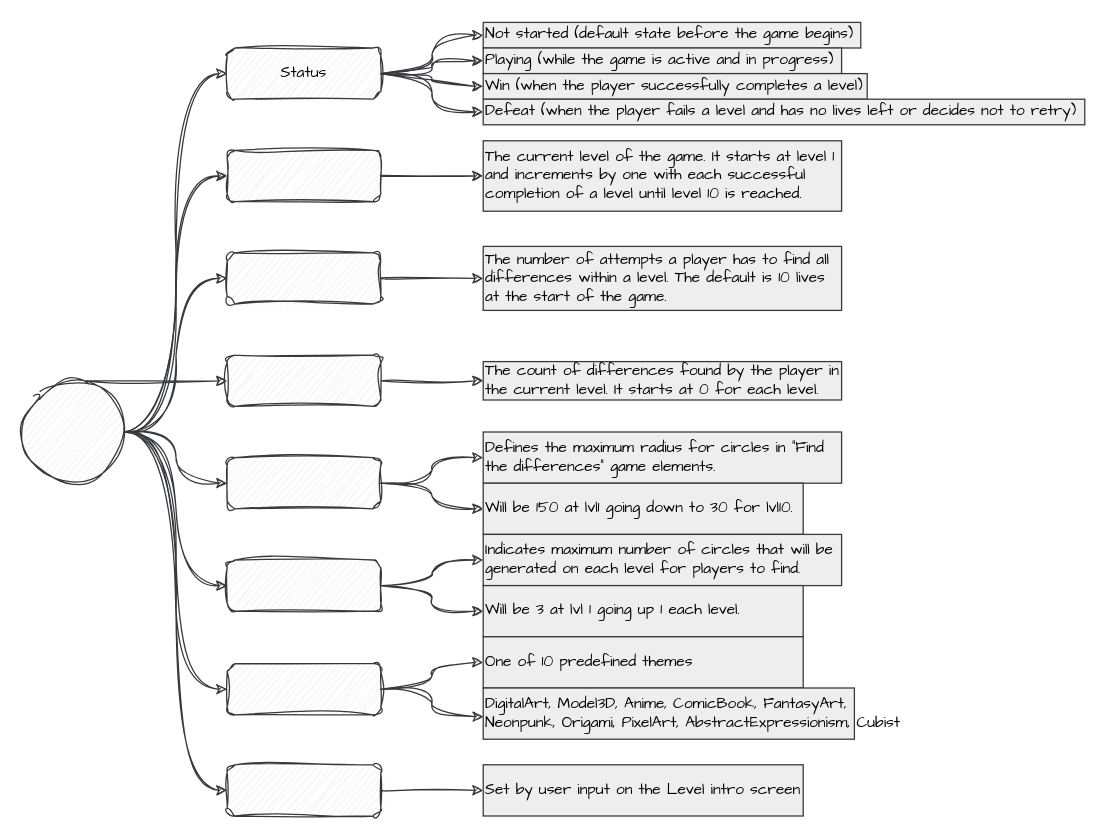
This 1107x838 diagram has some shape labels left out. Here are the shapes that lost their labels. From the top down, the centre of each, then its label:
At point 303,175: "Level".
At point 303,278: "Lives".
At point 303,380: "Found differences".
At point 73,431: "Game state".
At point 303,482: "Max difference radius".
At point 303,585: "Max differences".
At point 303,688: "Theme".
At point 303,790: "Topic".
